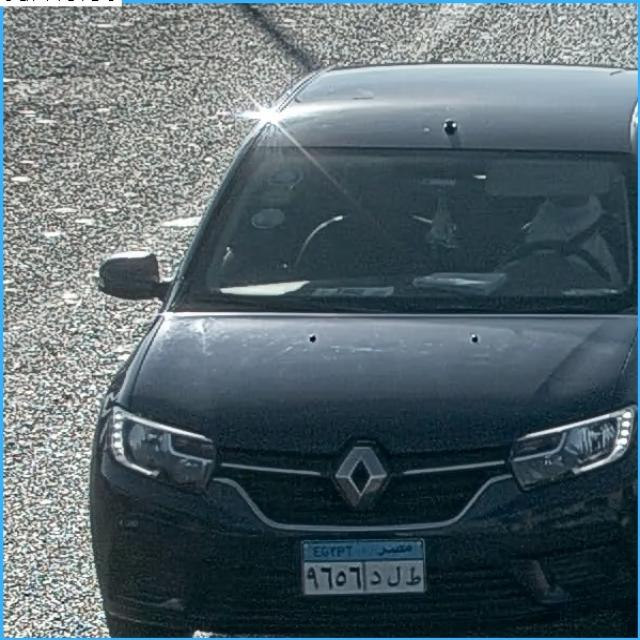windshield: (197, 161, 632, 298)
